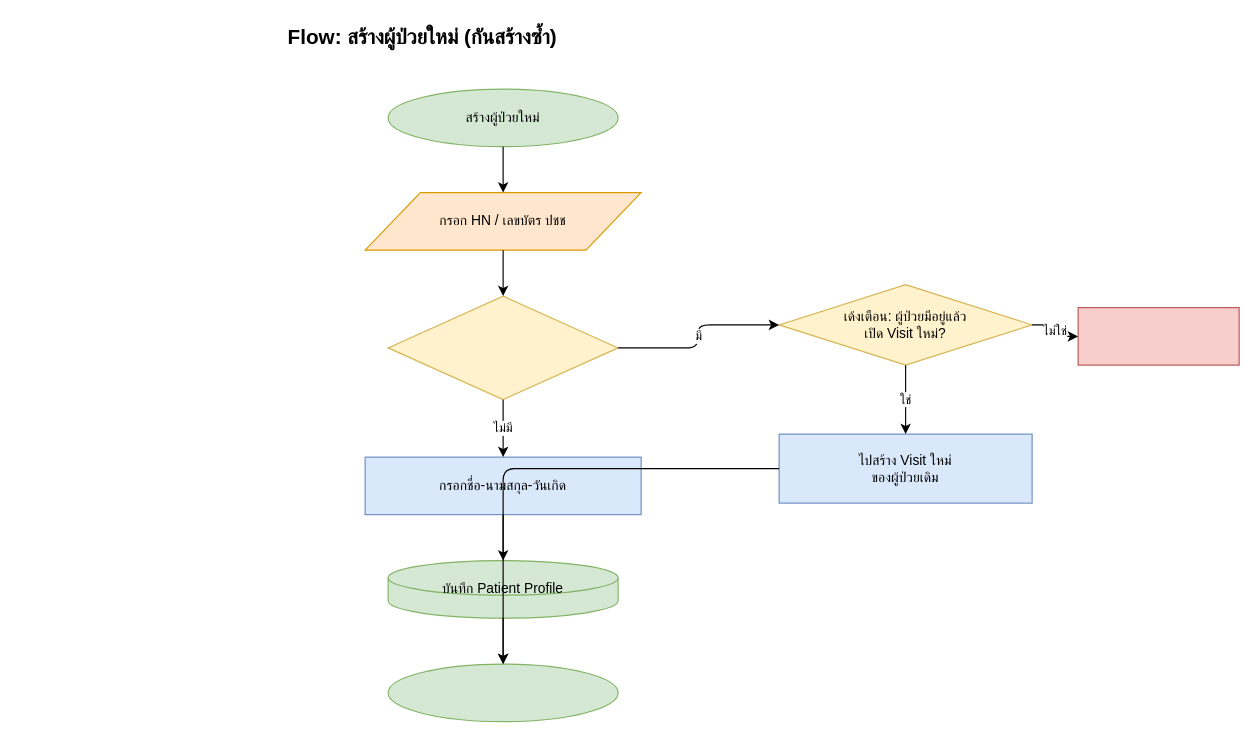
Image size: 1259x742. Some labels were removed from this diagram. The centre of each missing label's shape, as x and y in pixels:
มีในระบบแล้ว?: pixel 502 347
ยกเลิก: pixel 1158 335
เสร็จสิ้น: pixel 502 692
